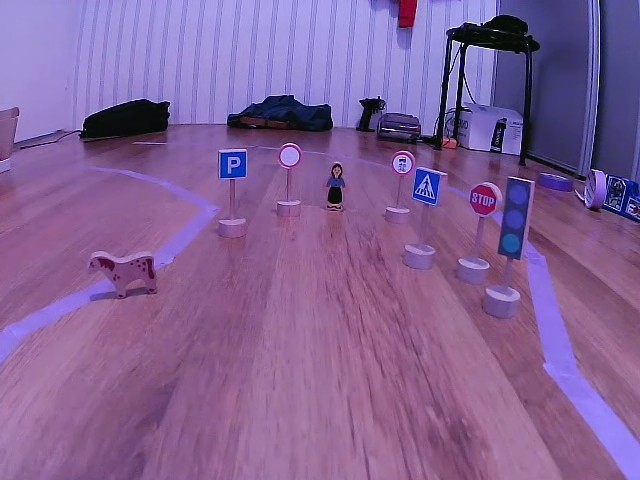fietspad: (392, 151, 413, 175)
groenlicht: (499, 174, 535, 258)
mens: (326, 161, 347, 210)
paard: (87, 253, 162, 299)
parkeerbord: (217, 148, 247, 181)
stopbord: (470, 182, 497, 215)
wegdicht: (279, 143, 301, 170)
zebrapad: (416, 168, 438, 205)
